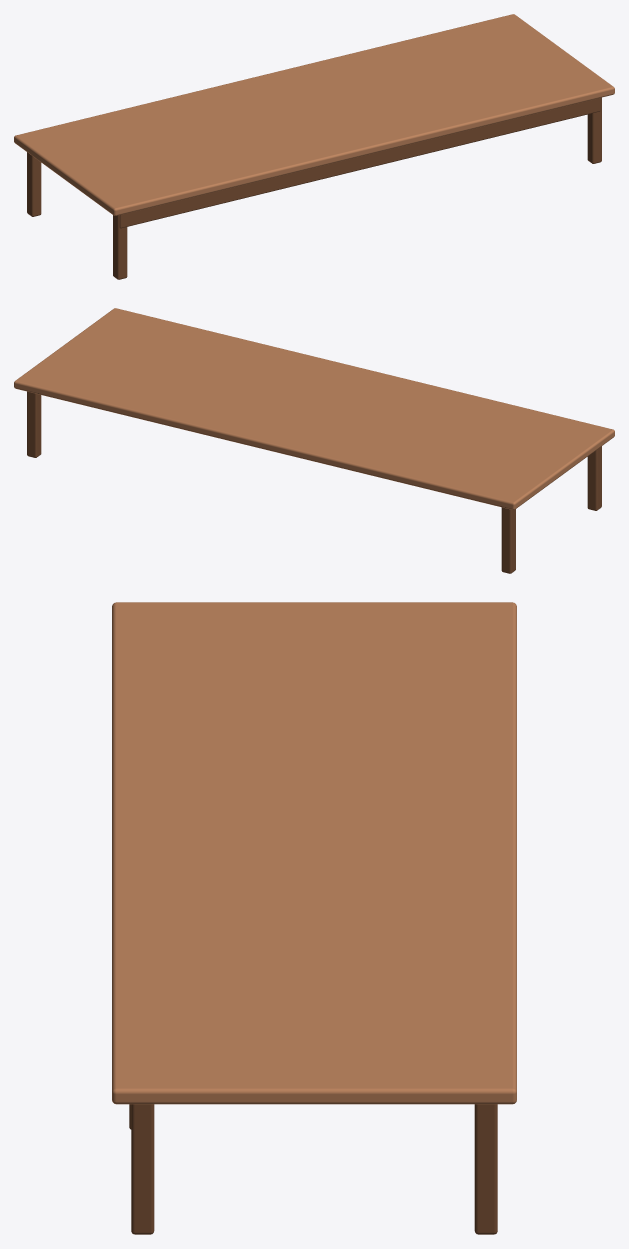
The model's file is desk.glb.
3 renders of one model, top to bottom at view 1: azimuth 30°, elevation 25°; view 2: azimuth 150°, elevation 25°; view 3: azimuth 270°, elevation 25°, orthographic. The views are drawn at different scales.
Visible parts, largest first — view 1: DeskTop, DeskApron, DeskLeg.001, DeskLeg, DeskLeg.002; view 2: DeskTop, DeskLeg.001, DeskLeg.003, DeskLeg; view 3: DeskTop, DeskLeg.002, DeskLeg.003.
Part boxes in pixels (<box>): DeskTop: <box>14,14,614,215</box>; DeskApron: <box>119,98,600,228</box>; DeskLeg.001: <box>27,152,41,216</box>; DeskLeg: <box>113,215,127,279</box>; DeskLeg.002: <box>587,97,601,163</box>; DeskTop: <box>14,308,614,509</box>; DeskLeg.001: <box>501,507,515,573</box>; DeskLeg.003: <box>27,391,41,457</box>; DeskLeg: <box>587,446,601,510</box>; DeskTop: <box>112,602,516,1104</box>; DeskLeg.002: <box>131,1104,154,1234</box>; DeskLeg.003: <box>474,1104,497,1234</box>.
Bounding box in the file's own units: 3 × 0.44 × 1.05.
